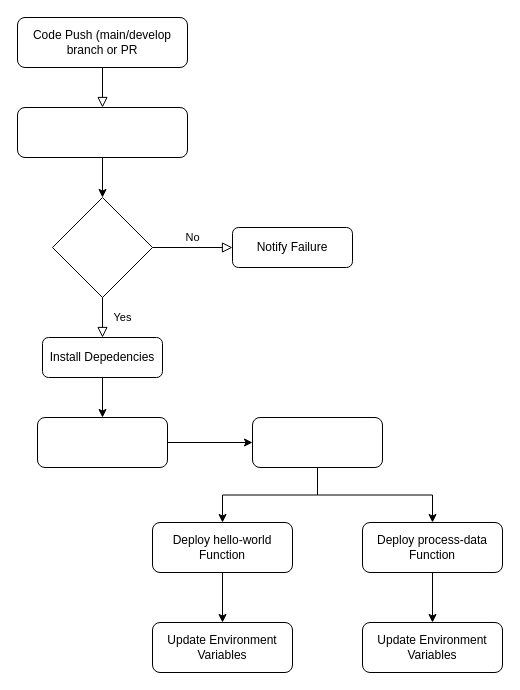
This 520x690 diagram has some shape labels left out. Each missing label, with the centre of its shape:
"Deploy to LocalStack" belongs at point (317, 442).
"Lint and Test" belongs at point (102, 132).
"Tests Passed?" belongs at point (102, 247).
"Verify AWS CLI Installation" belongs at point (102, 442).
